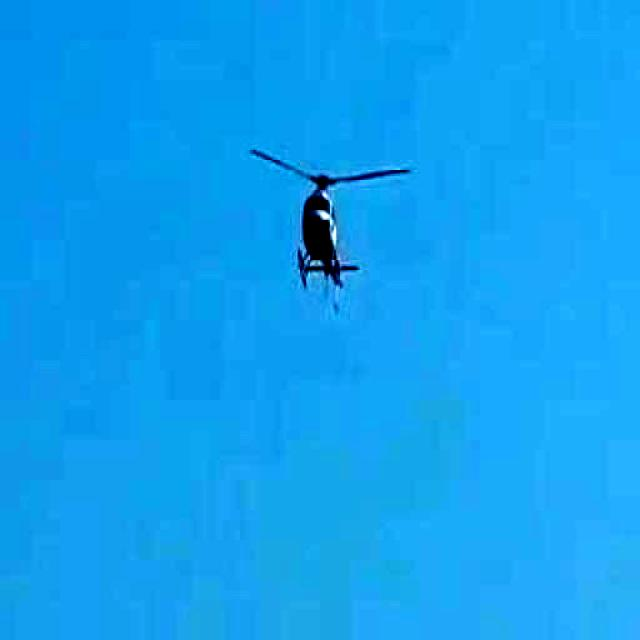drone: (224, 109, 440, 345)
